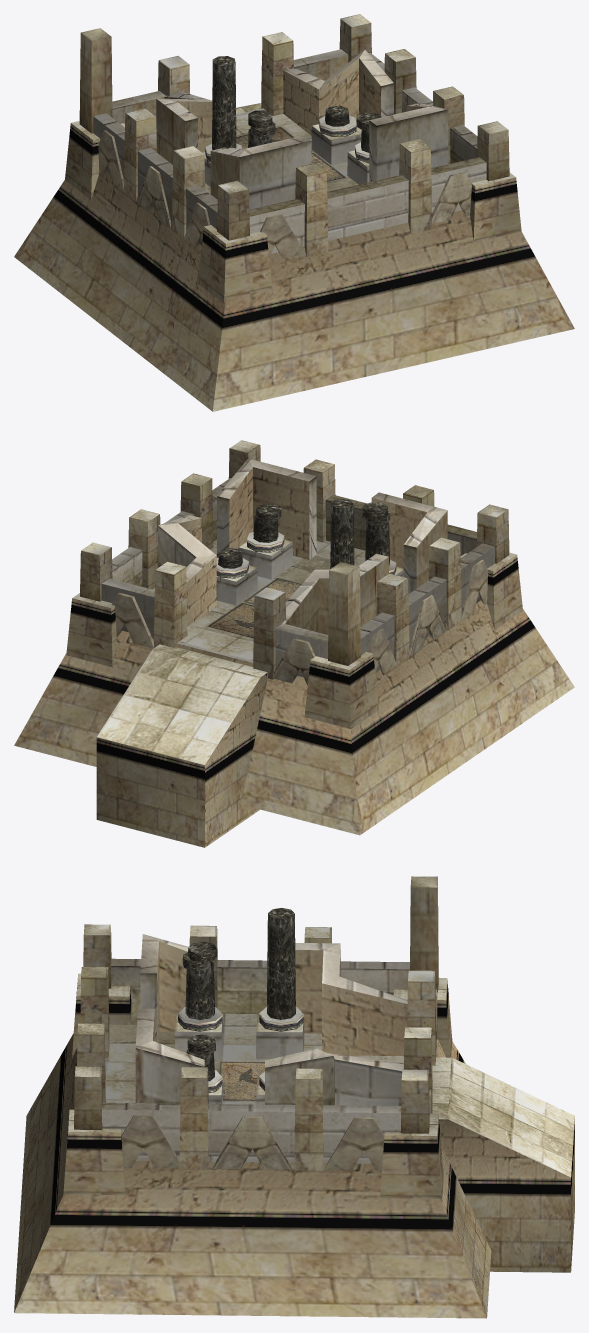
File: fndn_carthaginians_fortress.glb
3 views of the same model, one above another, from view 1: azimuth 30°, elevation 25°; view 2: azimuth 150°, elevation 25°; view 3: azimuth 270°, elevation 25° (orthographic). The views are drawn at different scales.
Parts seen in each view (by area): view 1: fndn_carthaginians_fortress_part0; view 2: fndn_carthaginians_fortress_part0; view 3: fndn_carthaginians_fortress_part0.
Boxes of the visible parts, <box> form: fndn_carthaginians_fortress_part0: <box>14,14,574,411</box>; fndn_carthaginians_fortress_part0: <box>14,440,574,847</box>; fndn_carthaginians_fortress_part0: <box>14,876,574,1318</box>.
Size of the model in its own units: 7.01 by 4.7 by 8.19.
Materials: 1 (1 with a texture image).
